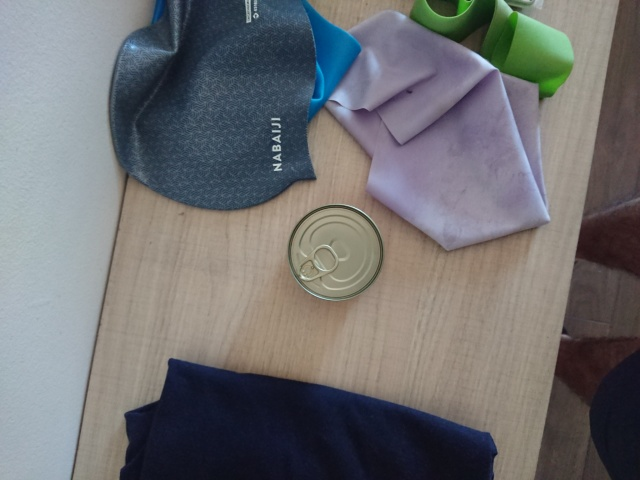Gavrilovic Pork Liver Pate 100g: (285, 202, 386, 303)
